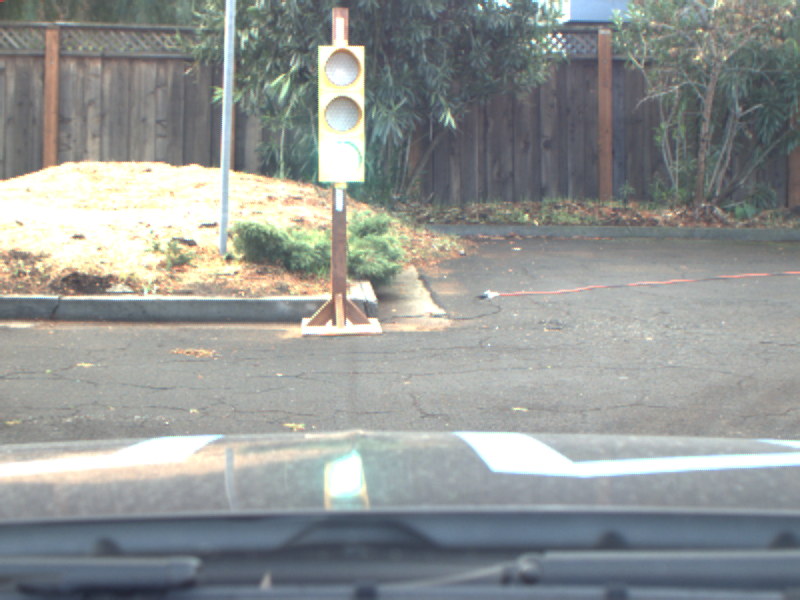Green: (316, 45, 365, 182)
